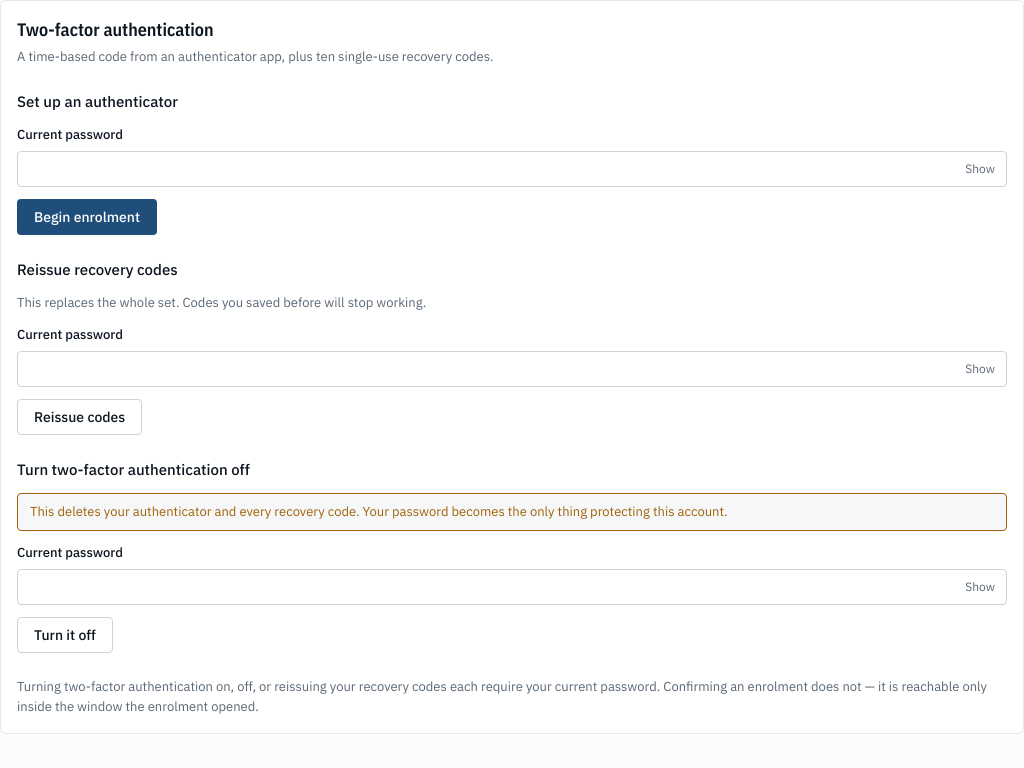
Test: MfaPanel — enrolment › renders a server refusal instead of proceeding
Type "correct horse battery staple" into the password field labelled "Current password" below "Set up an authenticator". click: x=512, y=169
box: [17,151,1007,187]
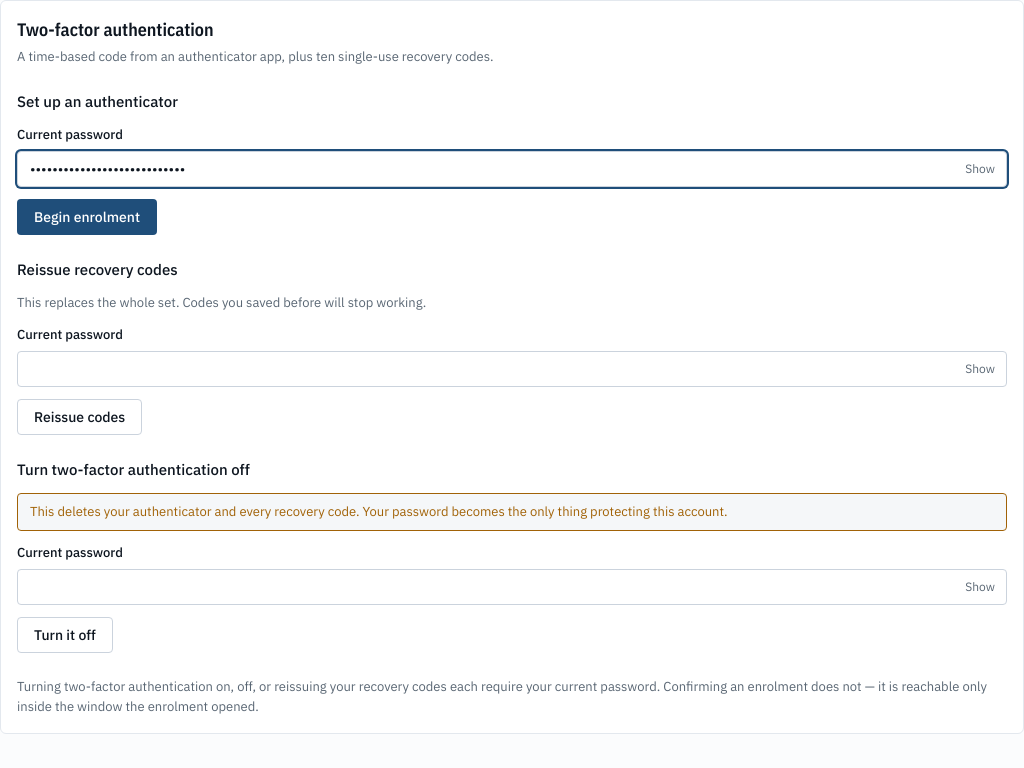
Click the button "Begin enrolment". click: x=87, y=217
box: [17,199,157,235]
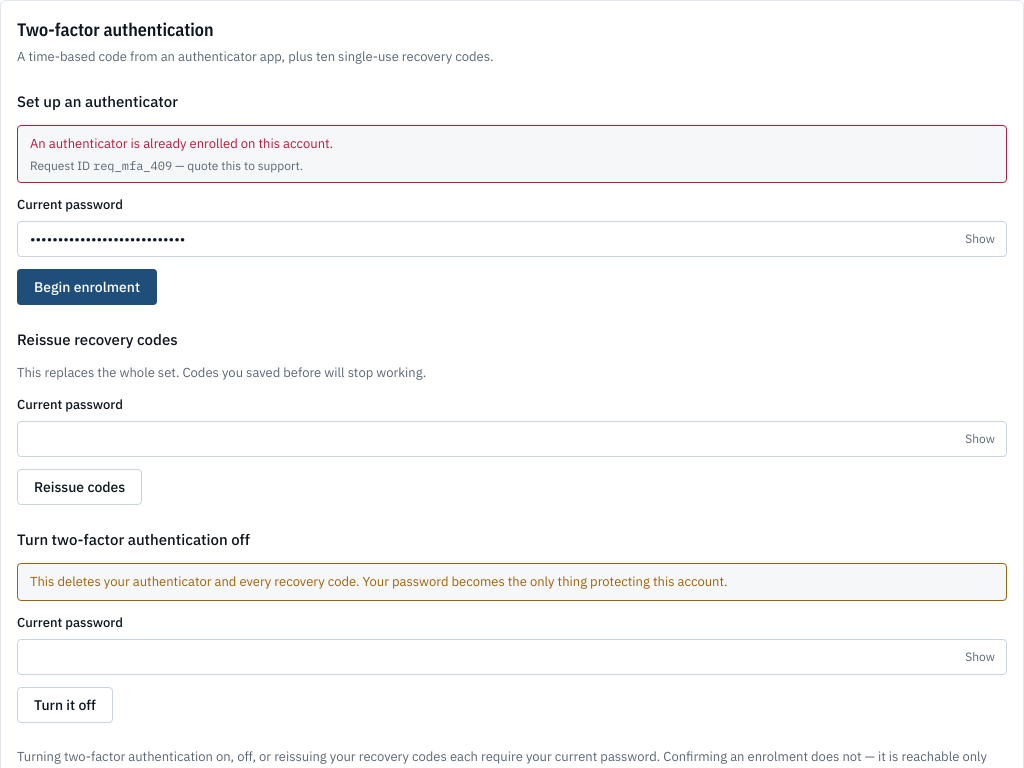
Result: the text "An authenticator is already enrolled on this account." is shown at [30,134,333,154]
